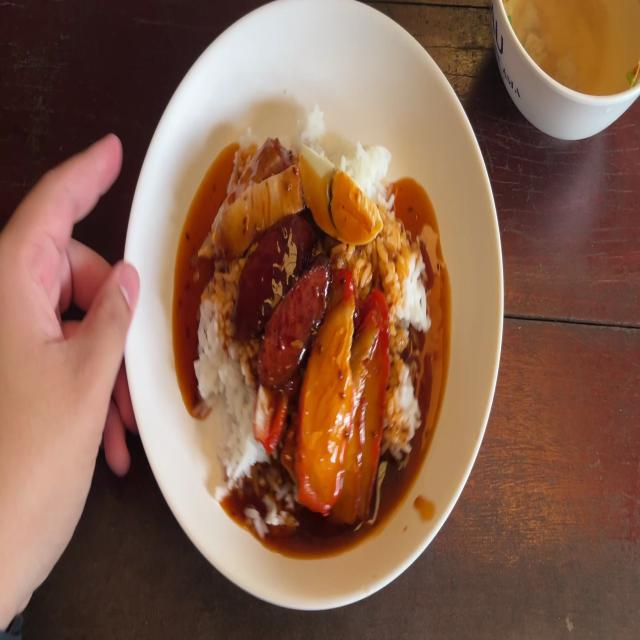red_pork_and_crispy_pork: (300, 145, 383, 251)
stir_fried_basil: (238, 220, 328, 374)
